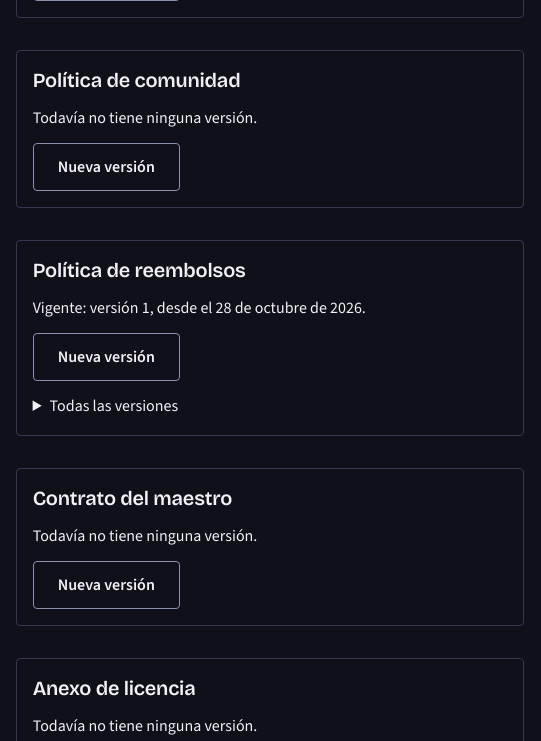
Test: PA-89, los textos legales › si alguien publicó antes, se vuelve al formulario y se dice
This screenshot has width=541, height=741.
(page scrolled)
Click the button named "Nueva versión de Política de reembolsos": (106, 357) [33, 333, 180, 381]
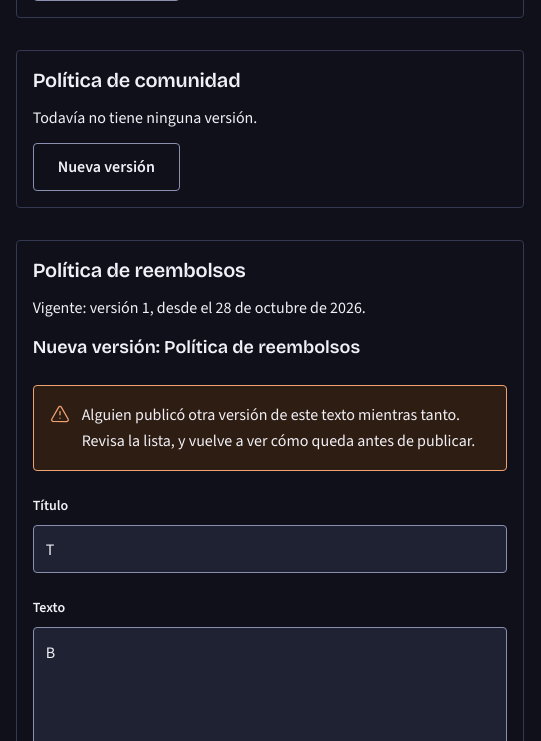
expect the text "Alguien publicó otra versión de este texto mientras tanto. Revisa la lista, y vuelve a ver cómo queda antes de publicar." is shown: met, box [82, 404, 475, 451]
